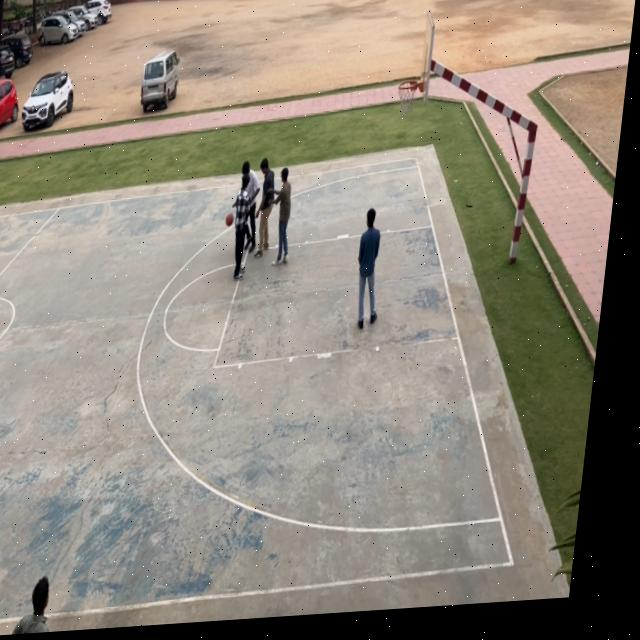basketball: (224, 210, 235, 232)
hoop: (395, 79, 419, 118)
